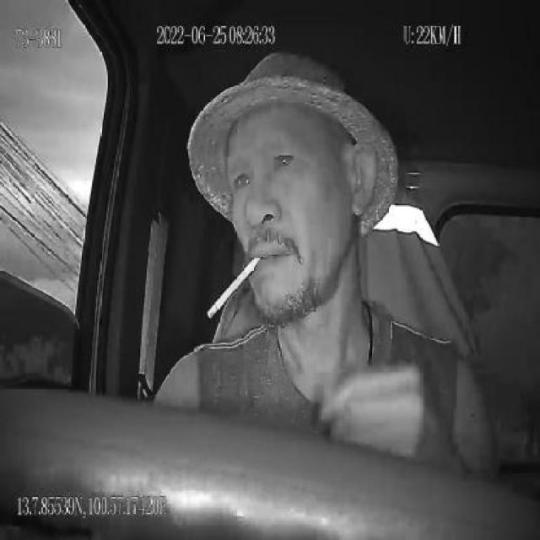smoking: (206, 253, 260, 319)
